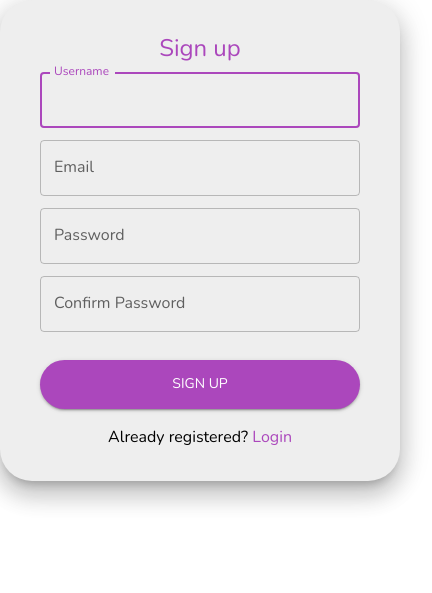
Test case: Signup form › Show validation errors after submitting an empty form › should render "Enter a valid email" after the user types any word on email input
Click the button "sign up".
click(200, 385)  # box [40,360,360,409]
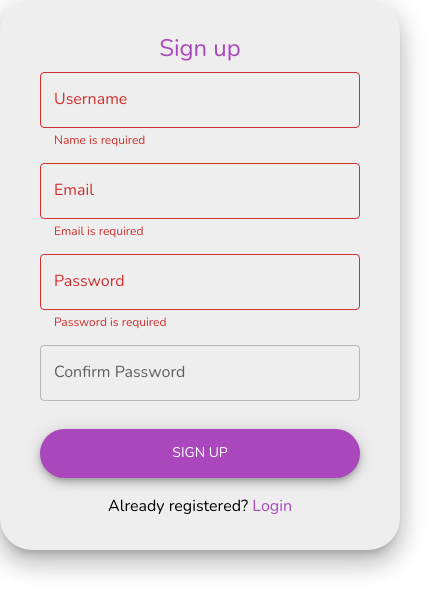
Type "c" into the field labelled "Email".
click(200, 191); type("c")  # box [40,163,360,219]
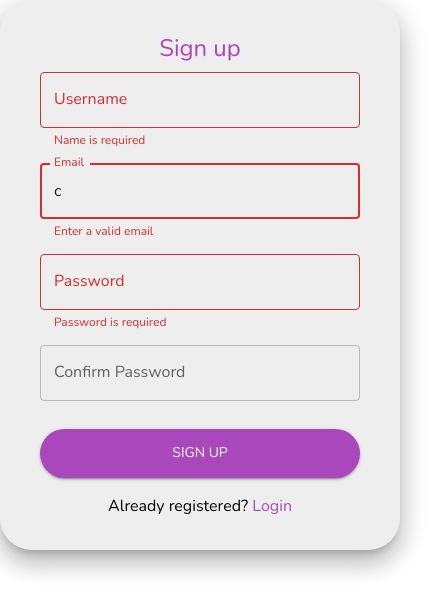
Expected: the text "Enter a valid email" is shown, [54,223,153,239]
